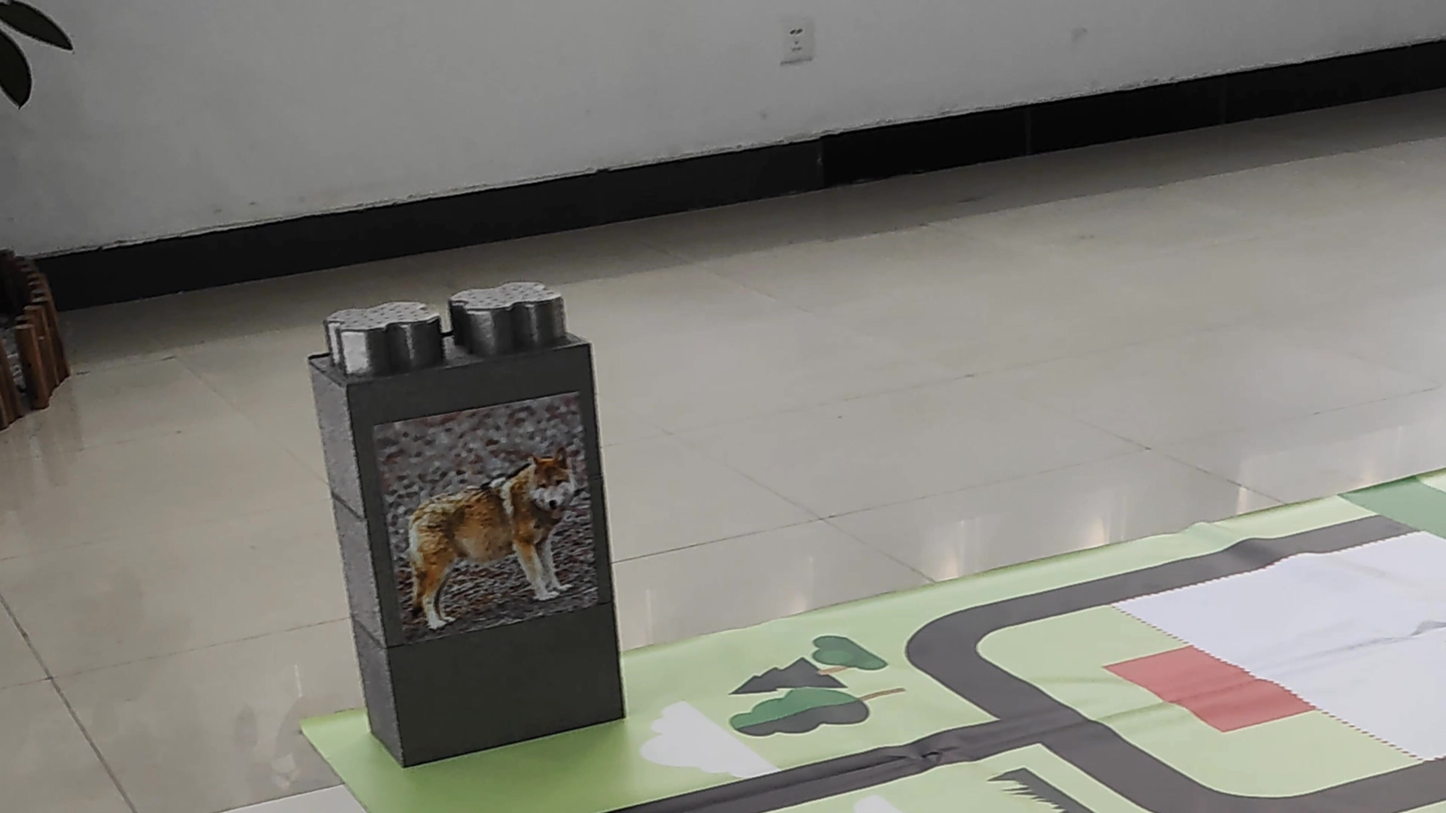wolf: (396, 444, 583, 617)
